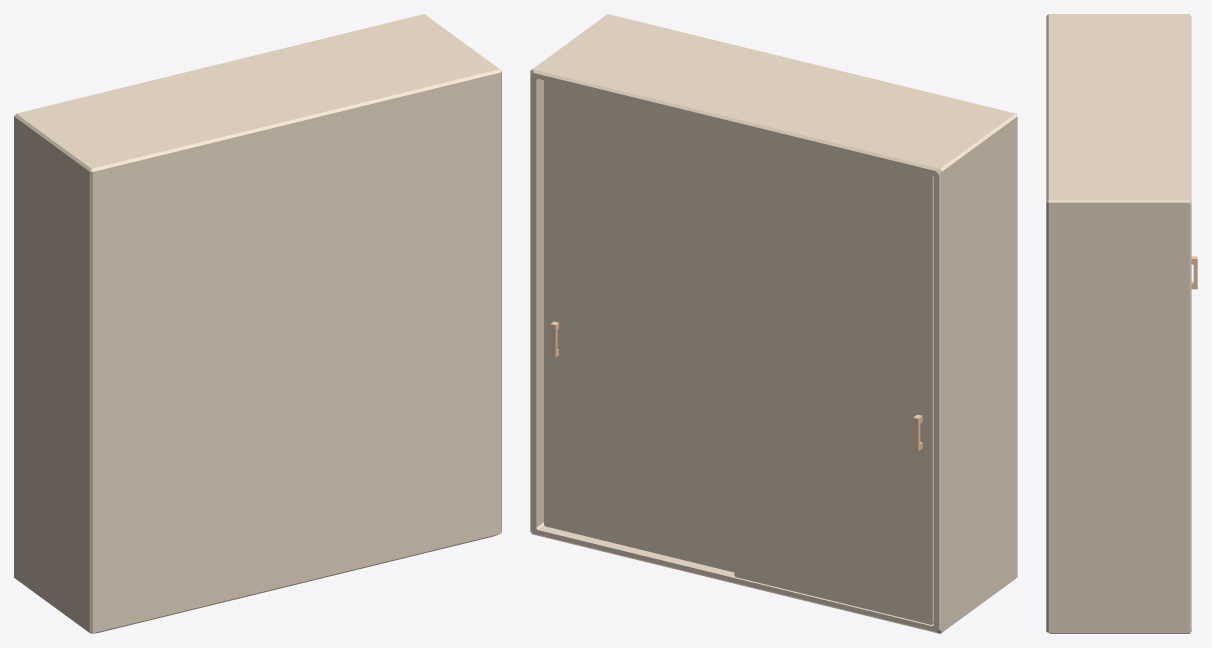
The model's file is Wardrope.fbx.
3 views of the same model, side by side, from view 1: azimuth 30°, elevation 25°; view 2: azimuth 150°, elevation 25°; view 3: azimuth 270°, elevation 25° (orthographic). The views are drawn at different scales.
Visible parts, largest first — view 1: Wardrobe; view 2: Wardrobe.001, Wardrobe.002, Wardrobe; view 3: Wardrobe.
Boxes of the visible parts, left/top/right/bottom form: Wardrobe: left=14, top=14, right=501, bottom=633; Wardrobe.001: left=734, top=127, right=933, bottom=624; Wardrobe.002: left=544, top=80, right=734, bottom=572; Wardrobe: left=530, top=14, right=1017, bottom=633; Wardrobe: left=1046, top=14, right=1191, bottom=633.
Bounding box in the file's own units: 25.2 × 27.19 × 8.58.
